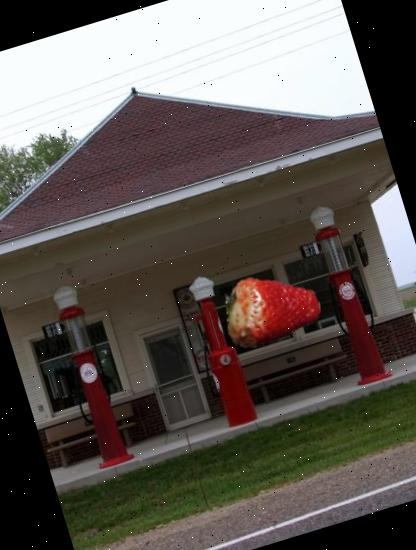Strawberry: (214, 252, 334, 372)
